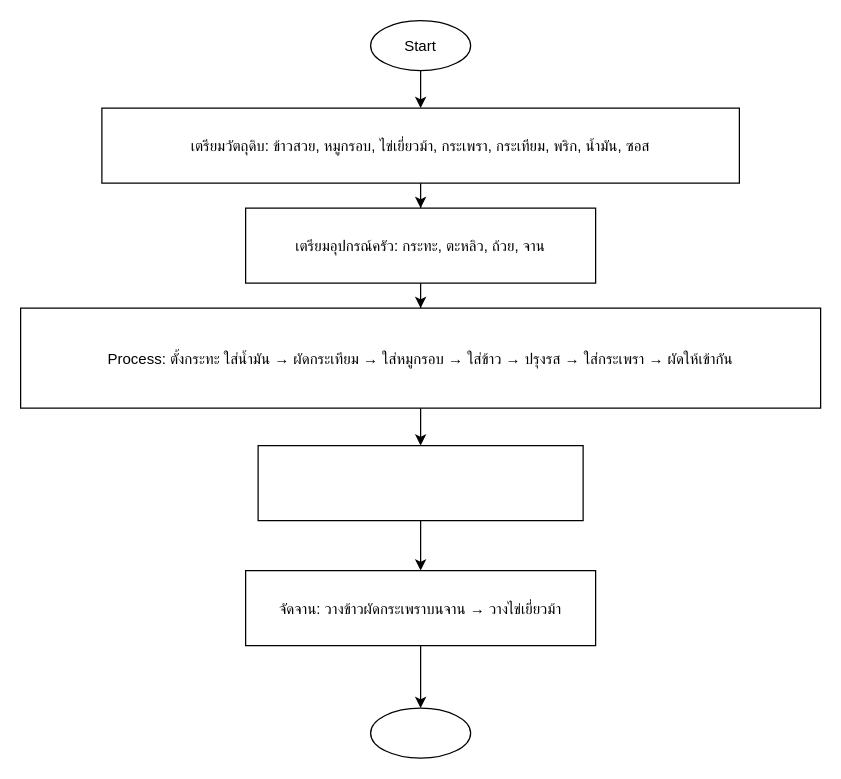
The diagram is 841 pixels wide and 779 high, and some of its shapes have lost their labels. Each missing label, with the centre of its shape:
"Process: ปอกไข่เยี่ยวม้า → หั่นครึ่ง" belongs at (x=420, y=482).
"Stop" belongs at (x=420, y=732).
